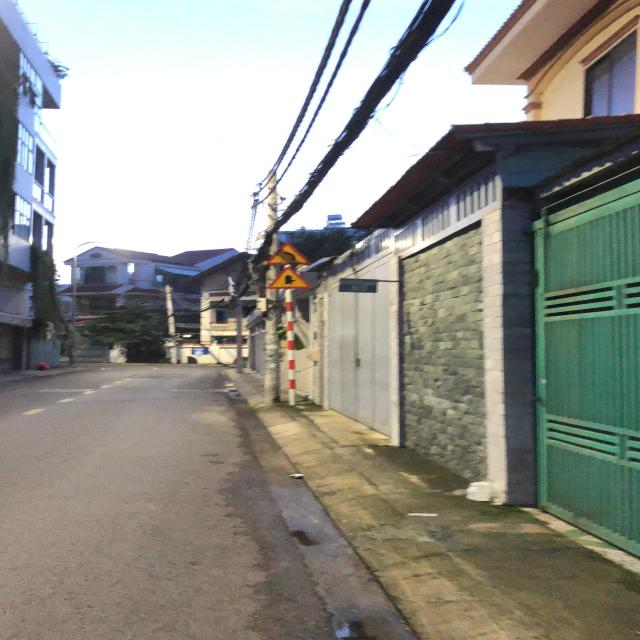Bien bao cho ngoat nguy hiem: (260, 242, 320, 266)
Bien bao giao nhau voi duong khong uu tien: (263, 266, 321, 295)
